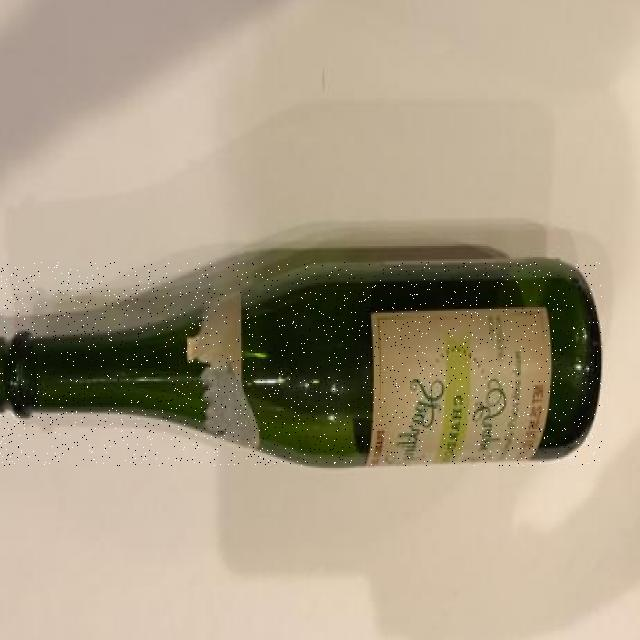glass: (0, 262, 602, 466)
